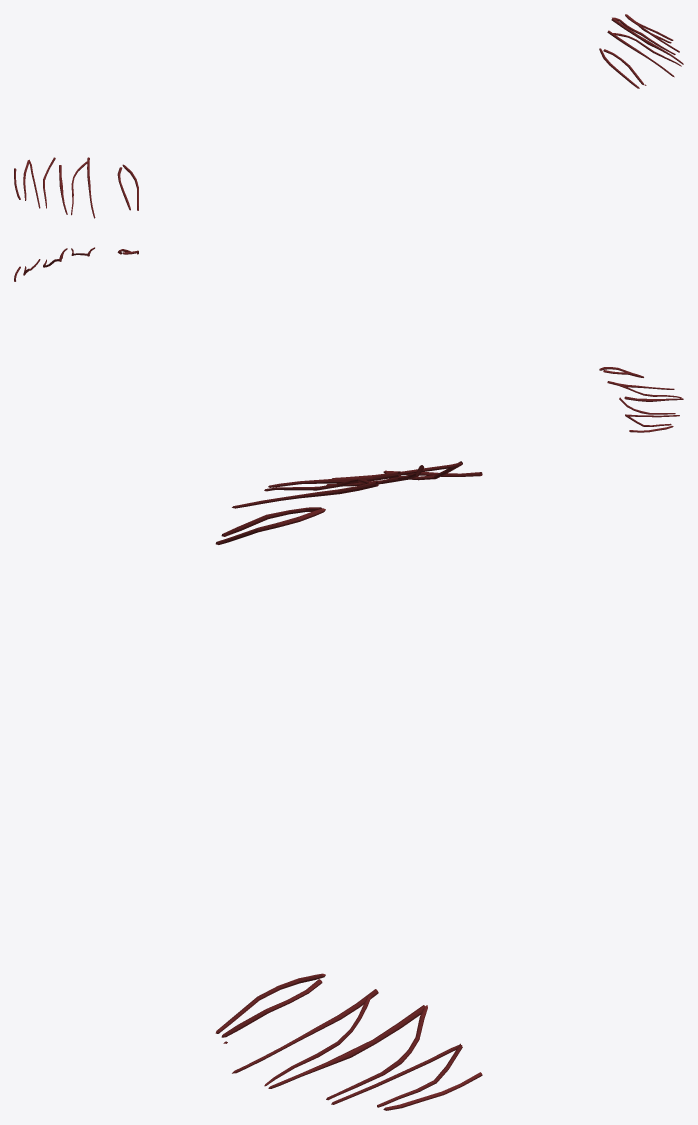
File: Artérias Digitales Dorsales.FBX
3 renders of one model, top to bottom at view 1: azimuth 30°, elevation 25°; view 2: azimuth 150°, elevation 25°; view 3: azimuth 270°, elevation 25°, orthographic. The views are drawn at different scales.
Parts seen in each view (by area): view 1: CS_Arterie; view 2: CS_Arterie; view 3: CS_Arterie.
Boxes of the visible parts, x1=… form: CS_Arterie: x1=14, y1=14, x2=683, y2=218; CS_Arterie: x1=14, y1=247, x2=683, y2=432; CS_Arterie: x1=215, y1=461, x2=482, y2=1110.
Bounding box in the file's own units: 1912 × 80.67 × 338.
